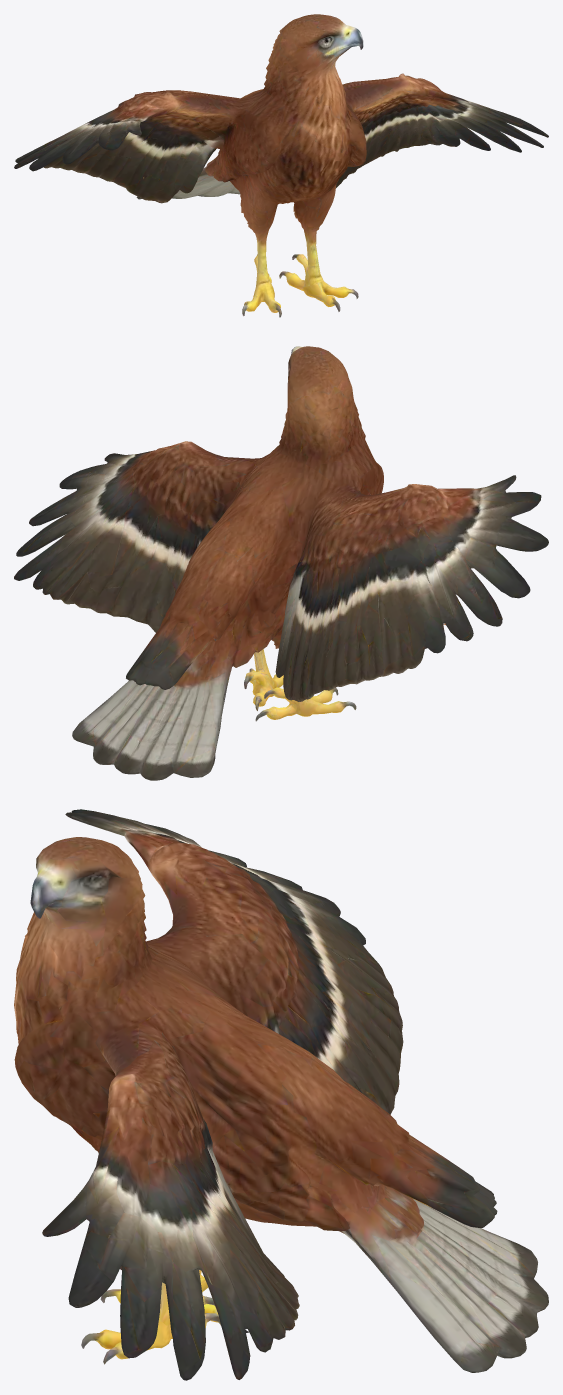
File: bird-buizerd.glb
3 views of the same model, one above another, from view 1: azimuth 30°, elevation 25°; view 2: azimuth 150°, elevation 25°; view 3: azimuth 270°, elevation 25° (orthographic). The views are drawn at different scales.
Size of the model in its own units: 1.91 by 1.14 by 1.13.
1 material, 1 textured.
